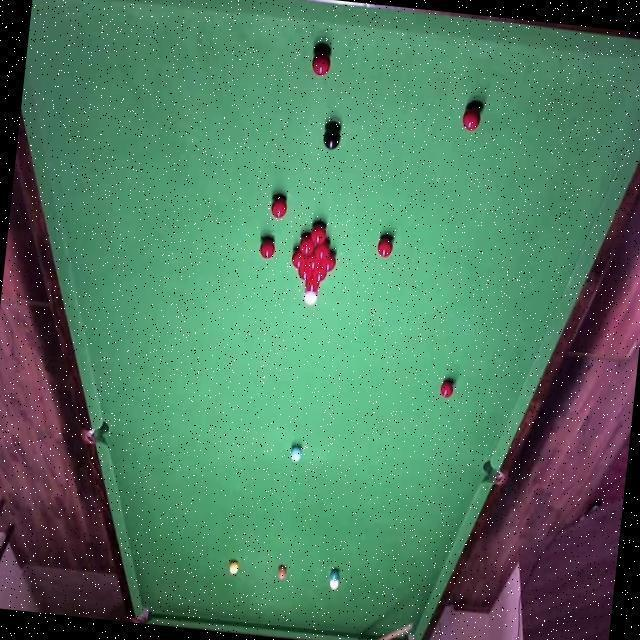Ball: (310, 50, 332, 78), (463, 105, 482, 133), (323, 123, 342, 150), (270, 194, 288, 219), (376, 234, 394, 258), (260, 236, 277, 259), (311, 221, 327, 245), (313, 241, 330, 262), (439, 378, 456, 399), (299, 236, 315, 257), (291, 251, 307, 269), (289, 442, 302, 462), (321, 255, 336, 272), (303, 278, 321, 292), (303, 291, 318, 307), (311, 270, 327, 285), (307, 256, 321, 272), (299, 265, 313, 281), (328, 569, 340, 587), (277, 565, 289, 581), (329, 577, 341, 591), (228, 561, 239, 575)
